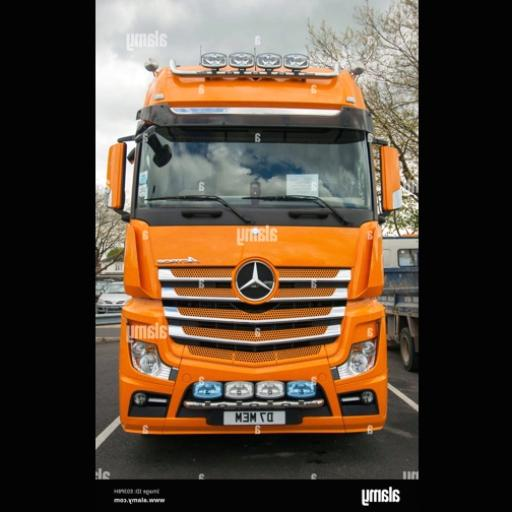sedan: (99, 281, 131, 312)
truck: (104, 48, 404, 438), (372, 265, 420, 373)
